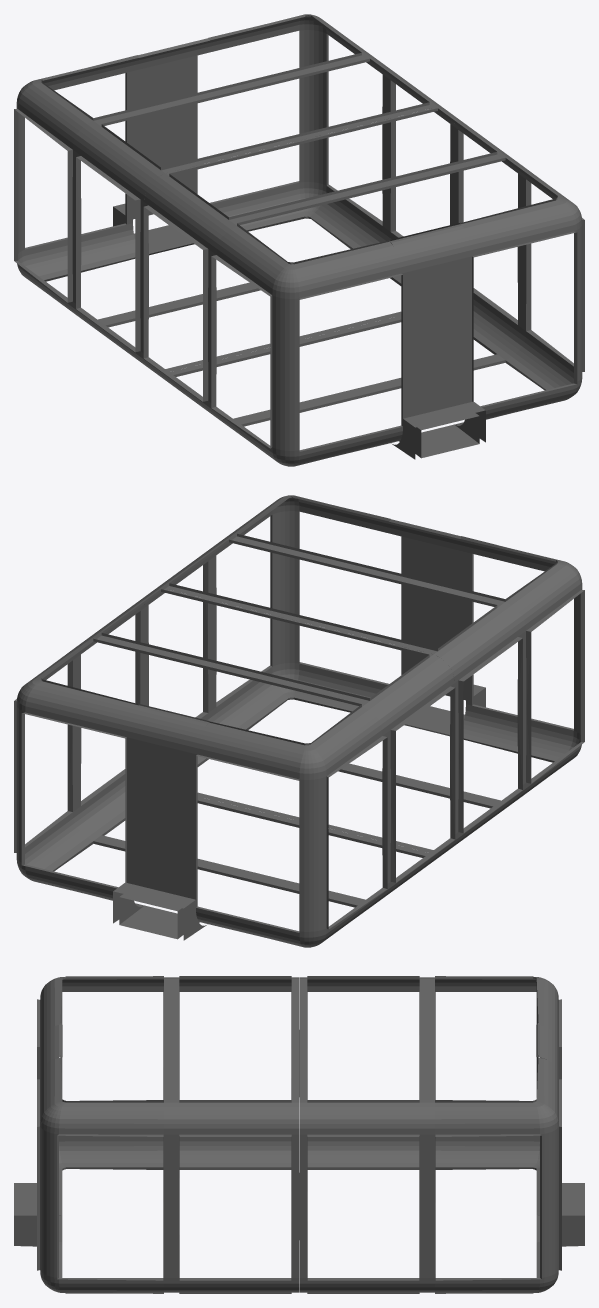
File: Map.fbx
3 renders of one model, top to bottom at view 1: azimuth 30°, elevation 25°; view 2: azimuth 150°, elevation 25°; view 3: azimuth 270°, elevation 25°, orthographic. The views are drawn at different scales.
Visible parts, largest first — view 1: Frame, Goals; view 2: Frame, Goals; view 3: Frame, Goals.
Boxes of the visible parts, box(x1,y1,x2,y2) form: Frame: box(14, 14, 584, 466); Goals: box(113, 38, 485, 459); Frame: box(14, 495, 584, 947); Goals: box(113, 519, 485, 940); Frame: box(37, 976, 561, 1293); Goals: box(14, 1023, 584, 1246).
Size of what is drawn, in the model's own units: 1461 by 895 by 2388.
Materials: 2 (2 with a texture image).
